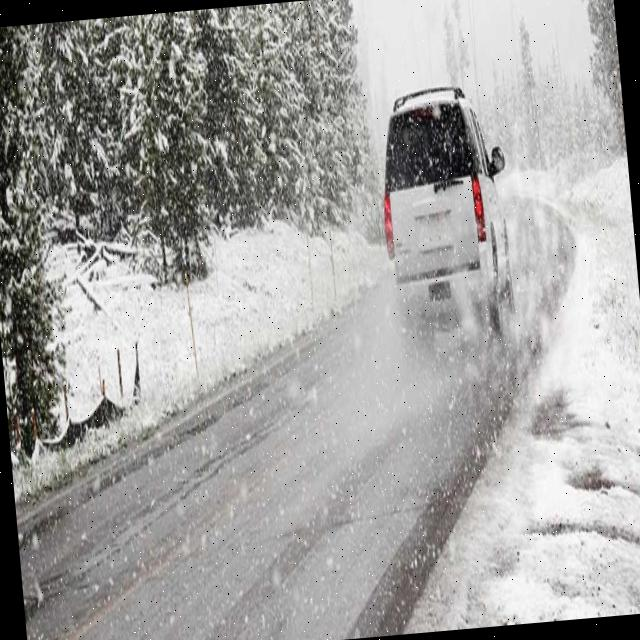car: (371, 78, 517, 340)
